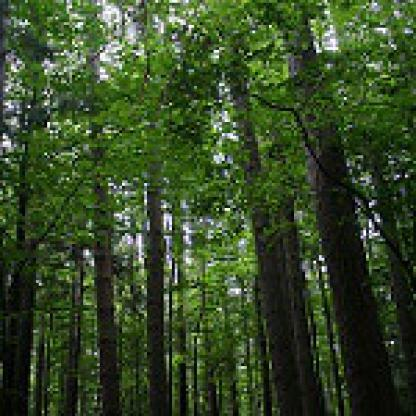trunk: (272, 6, 408, 413), (225, 70, 327, 414), (78, 6, 130, 413), (0, 161, 42, 413), (144, 183, 178, 413)
